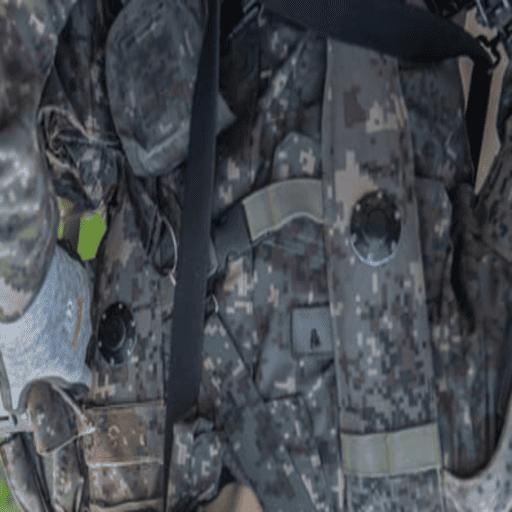korea army: (1, 0, 510, 510), (0, 2, 507, 507)
